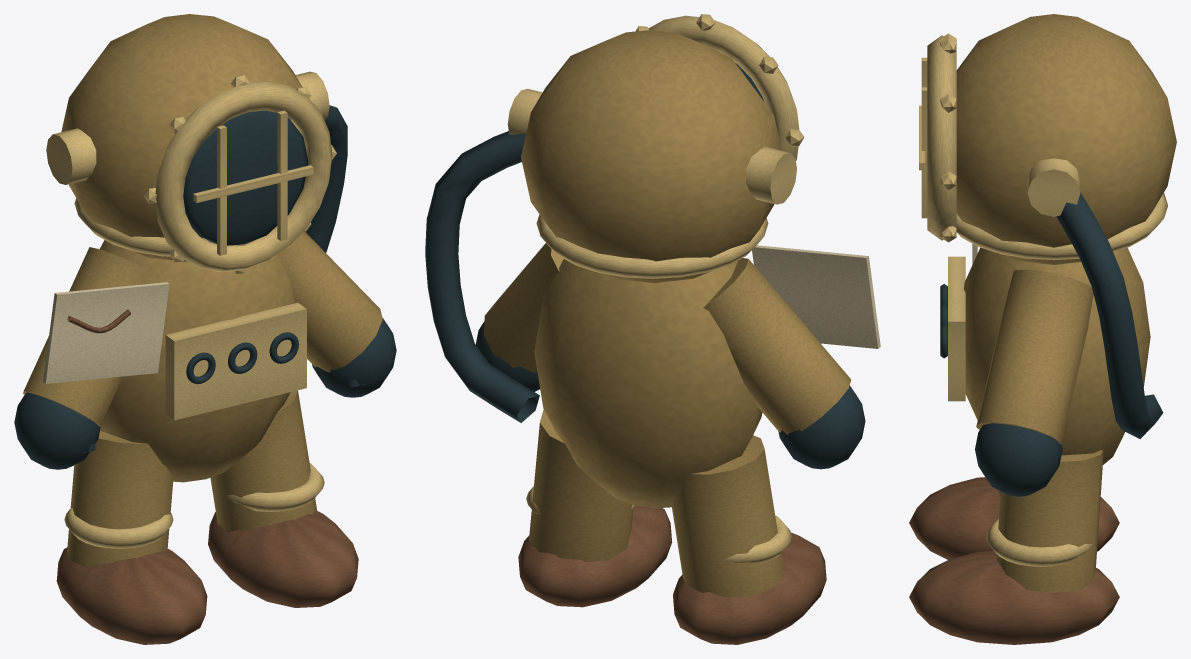
File: diver.glb
The picture shows the model from 3 angles, left to right: view 1: azimuth 30°, elevation 25°; view 2: azimuth 150°, elevation 25°; view 3: azimuth 270°, elevation 25°; orthographic projection. The views are drawn at different scales.
Parts seen in each view (by area): view 1: static_ornament; view 2: static_ornament; view 3: static_ornament.
Boxes of the visible parts, box(x1,y1,x2,y2) form: static_ornament: box(14, 14, 396, 644); static_ornament: box(425, 14, 880, 644); static_ornament: box(909, 14, 1176, 644).
Size of the model in its own units: 0.9935 by 1.44 by 0.61.
Materials: 1 (1 with a texture image).
